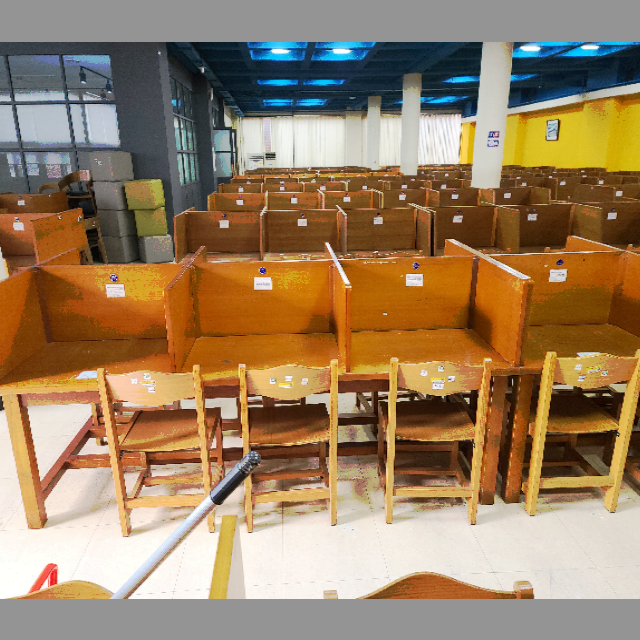empty: (181, 225, 355, 439), (3, 240, 174, 452), (362, 225, 525, 432)
